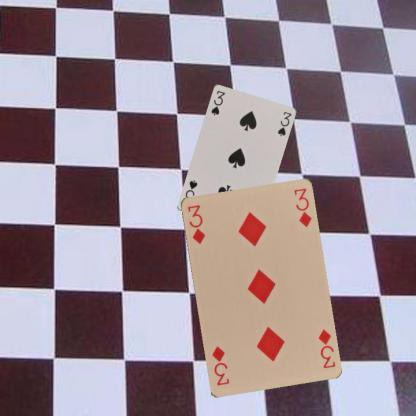3d: (185, 202, 206, 245), (315, 326, 336, 369)
3s: (208, 88, 226, 117)
